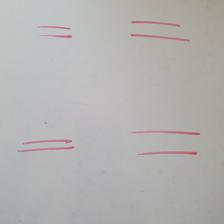assembly-scar: (127, 128, 201, 157), (129, 20, 191, 43), (16, 137, 74, 153), (37, 24, 72, 40)
